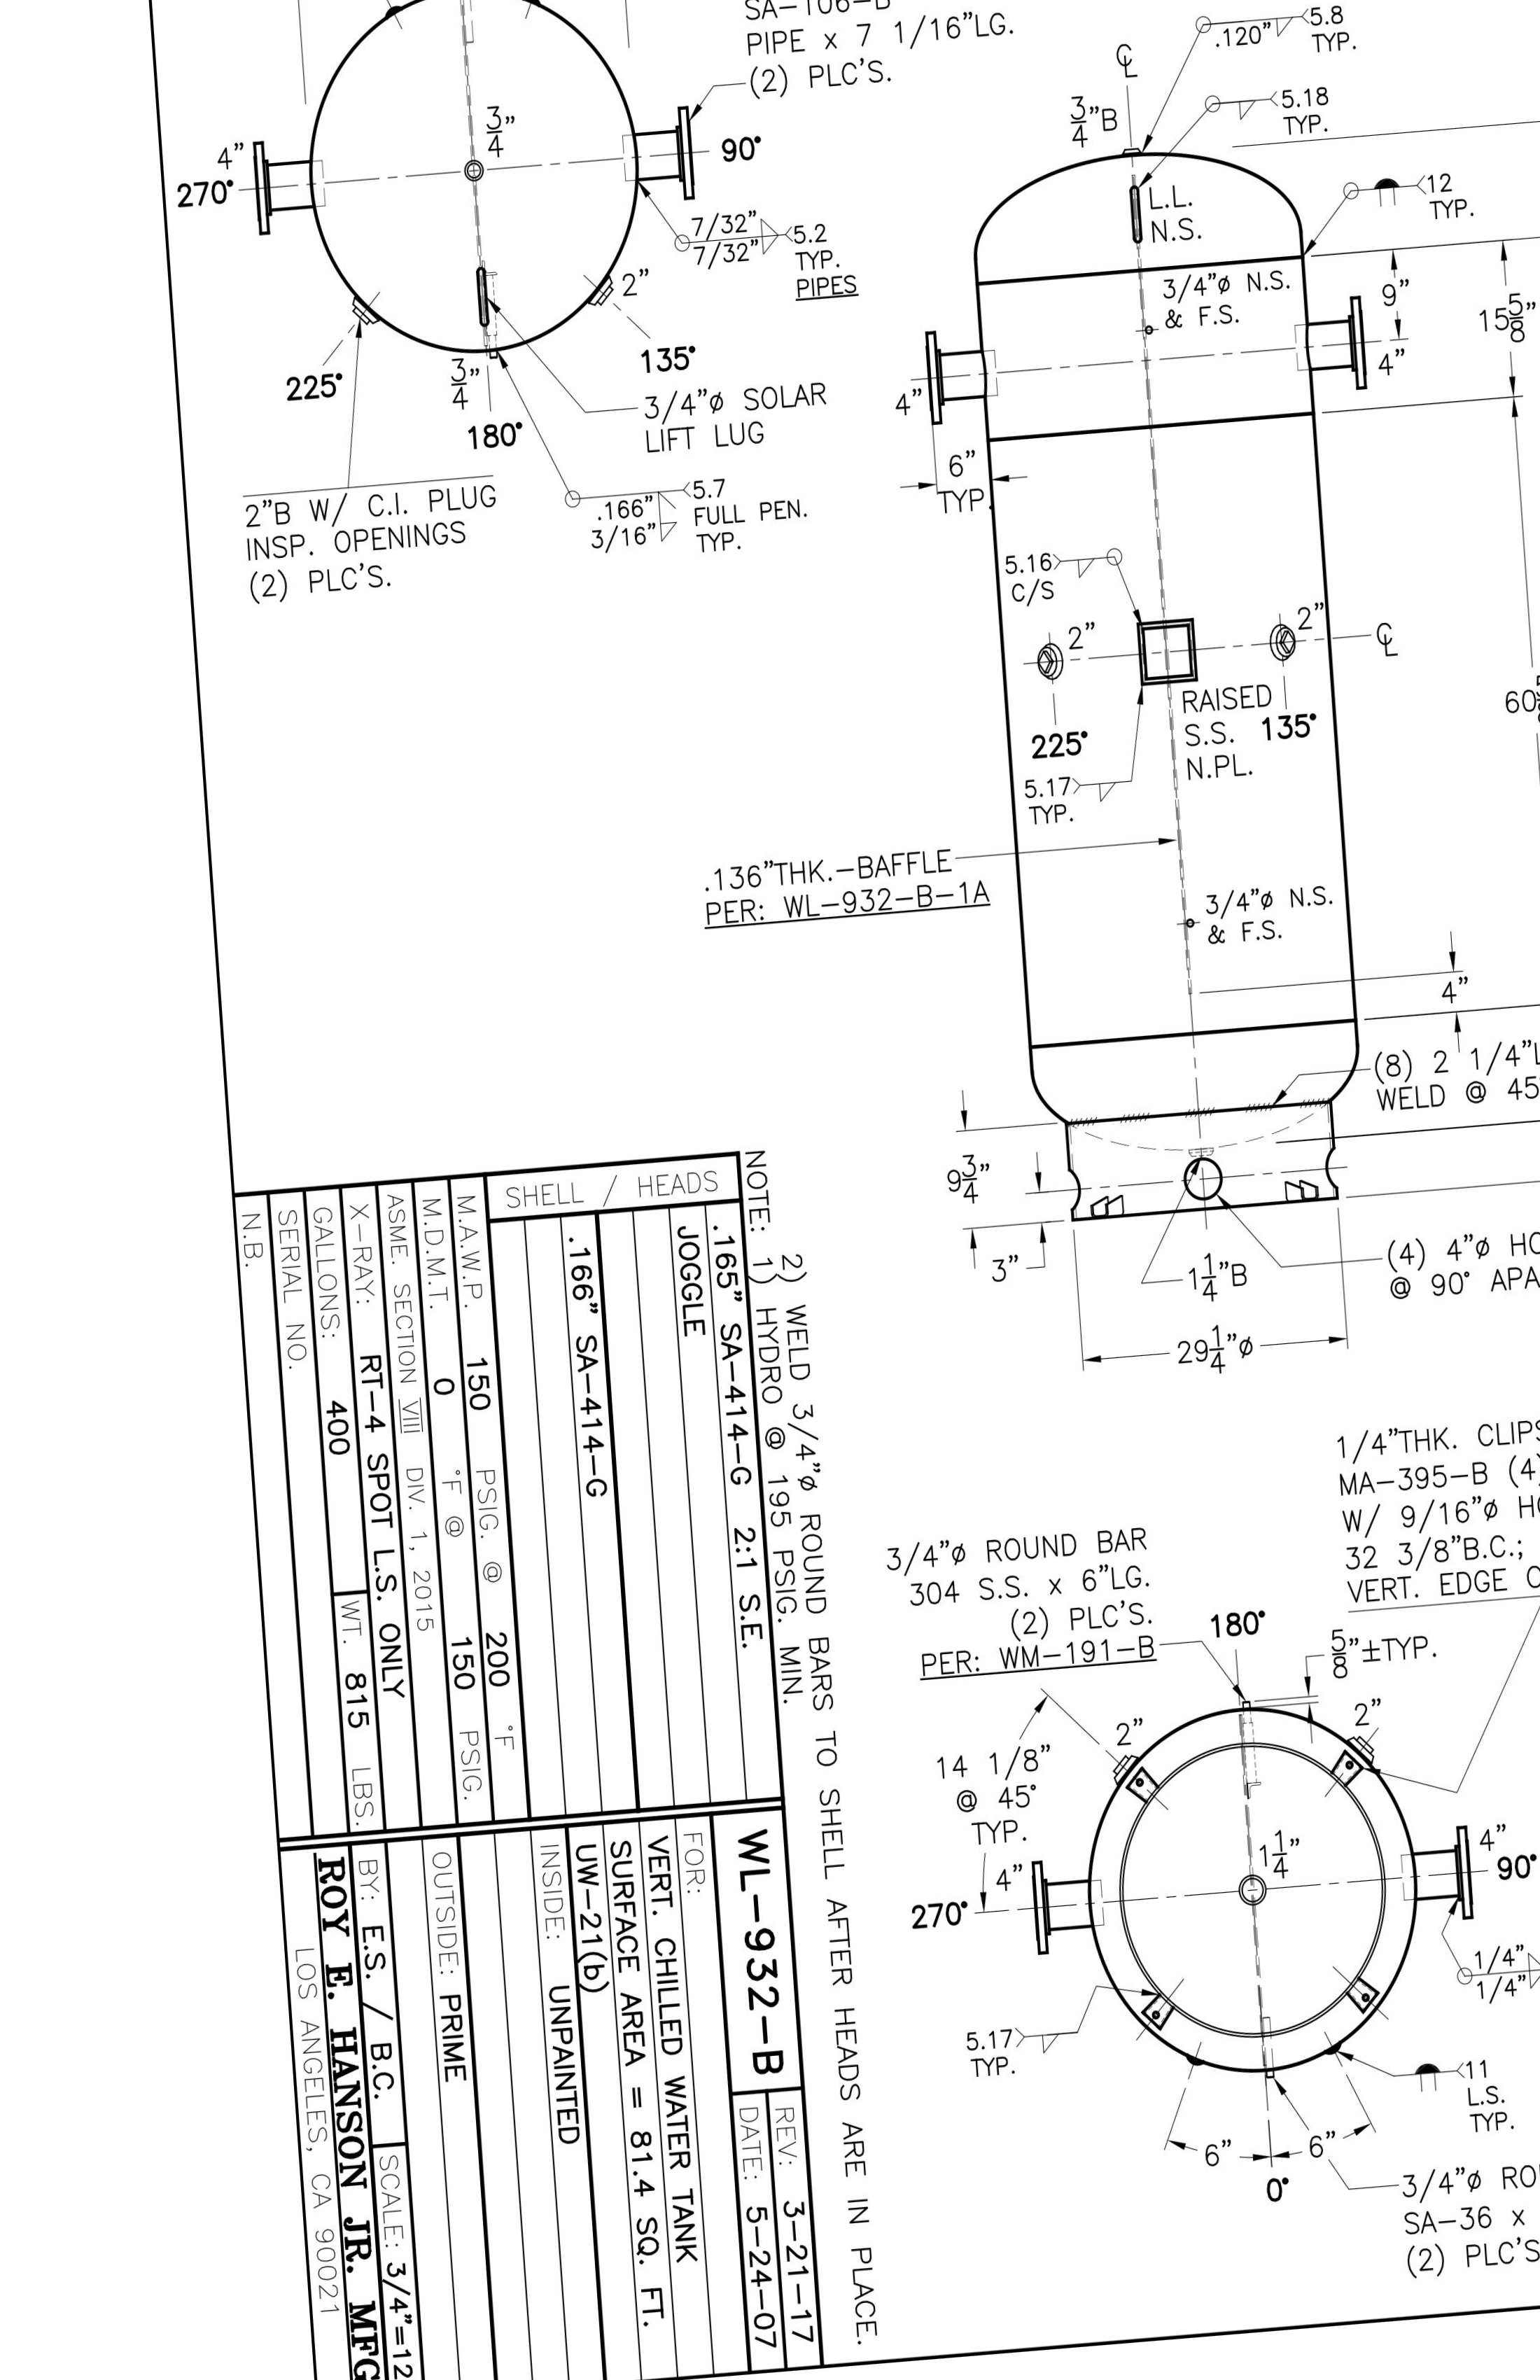Nozzle: (987, 1823, 1134, 1976), (910, 281, 1027, 449), (1271, 281, 1412, 413), (205, 113, 333, 239), (1387, 1820, 1507, 1948), (605, 101, 734, 208)
